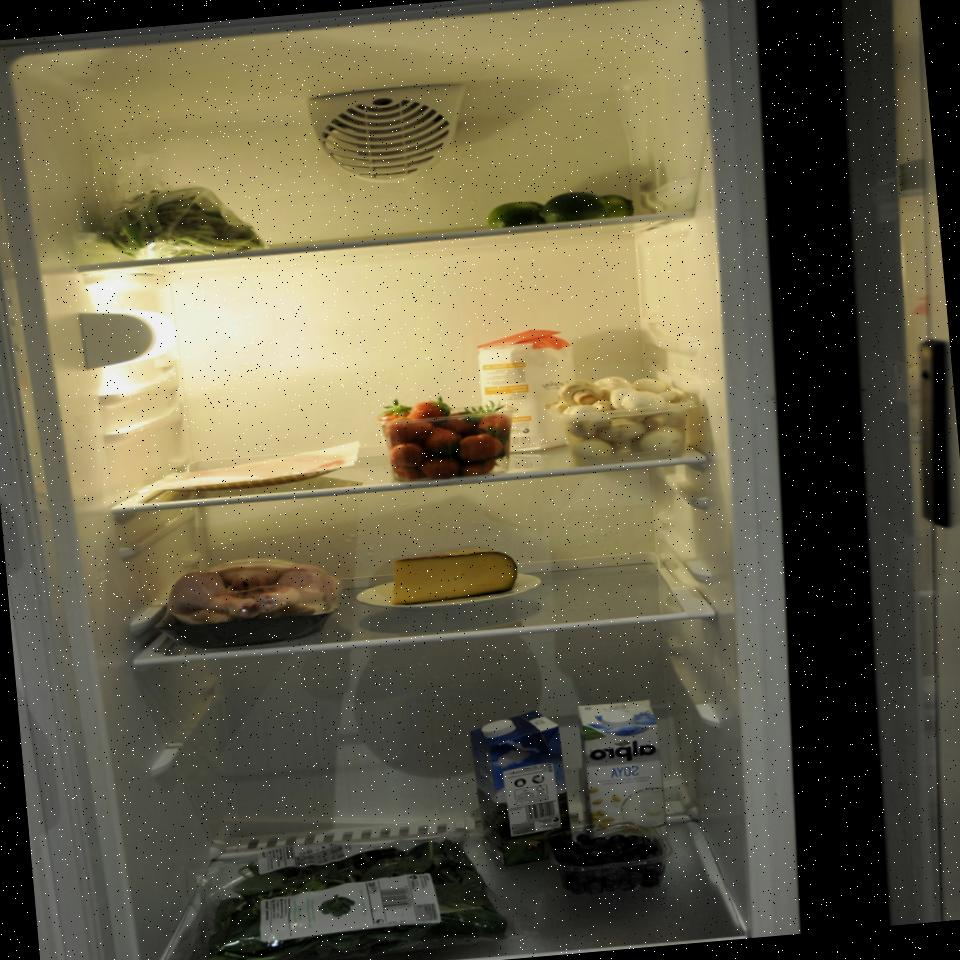Carne pollo: (144, 546, 344, 652)
Leche: (463, 708, 578, 872), (568, 691, 678, 843)
Queso: (380, 539, 520, 613)
